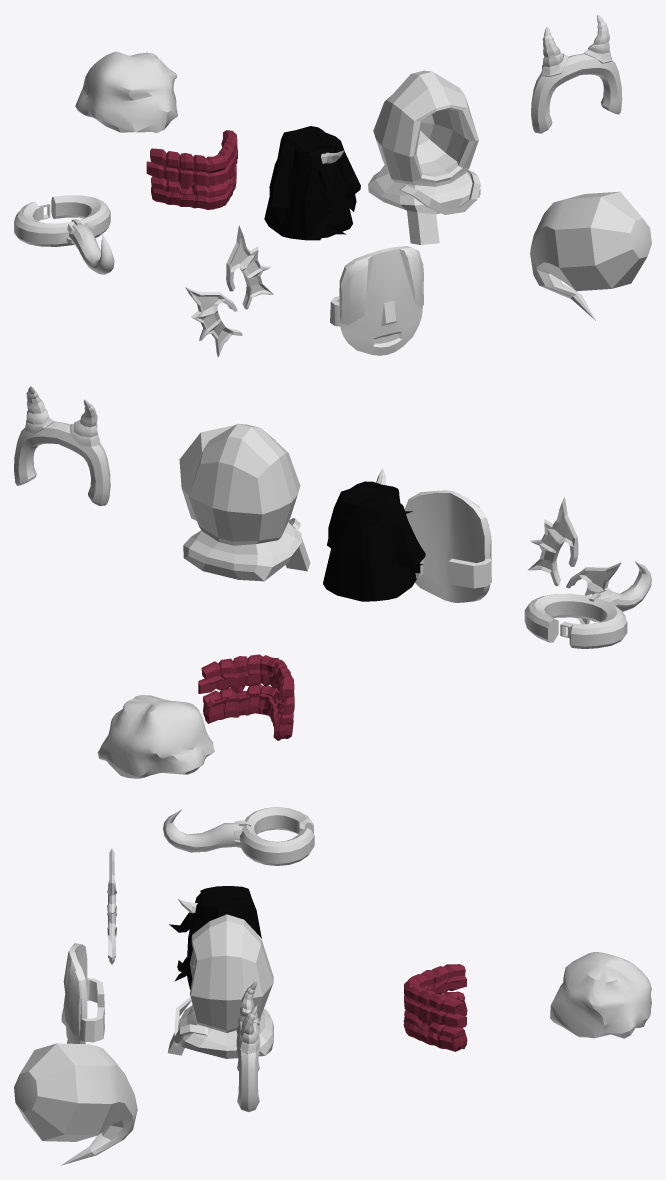
Rendered from boyparts import.fbx.
3 renders of one model, top to bottom at view 1: azimuth 30°, elevation 25°; view 2: azimuth 150°, elevation 25°; view 3: azimuth 270°, elevation 25°, orthographic. The views are drawn at different scales.
Visible parts, largest first — view 1: cloak, eye, Clothes, mask, hair, Teeth, tail, horns, ears; view 2: cloak, Clothes, mask, hair, Teeth, tail, horns, ears, eye; view 3: eye, cloak, hair, tail, Teeth, mask, Clothes, horns, ears.
Boxes of the visible parts, left/top/right/bottom form: cloak: left=368, top=70, right=480, bottom=244; eye: left=530, top=191, right=651, bottom=320; Clothes: left=264, top=126, right=360, bottom=240; mask: left=330, top=246, right=423, bottom=355; hair: left=75, top=51, right=177, bottom=133; Teeth: left=146, top=130, right=237, bottom=209; tail: left=14, top=195, right=114, bottom=274; horns: left=531, top=14, right=622, bottom=133; ears: left=185, top=225, right=273, bottom=357; cloak: left=183, top=423, right=310, bottom=581; Clothes: left=323, top=468, right=425, bottom=601; mask: left=404, top=490, right=491, bottom=602; hair: left=97, top=695, right=214, bottom=778; Teeth: left=198, top=654, right=294, bottom=740; tail: left=524, top=561, right=651, bottom=648; horns: left=14, top=386, right=110, bottom=505; ears: left=528, top=497, right=621, bottom=624; eye: left=179, top=425, right=275, bottom=520; eye: left=14, top=1043, right=137, bottom=1165; cloak: left=168, top=914, right=273, bottom=1058; hair: left=550, top=952, right=651, bottom=1038; tail: left=163, top=807, right=314, bottom=865; Teeth: left=403, top=964, right=467, bottom=1051; mask: left=61, top=943, right=104, bottom=1043; Clothes: left=169, top=886, right=261, bottom=989; horns: left=236, top=981, right=260, bottom=1111; ears: left=107, top=848, right=116, bottom=964.
Bounding box in the file's own units: 661 × 225 × 623.
